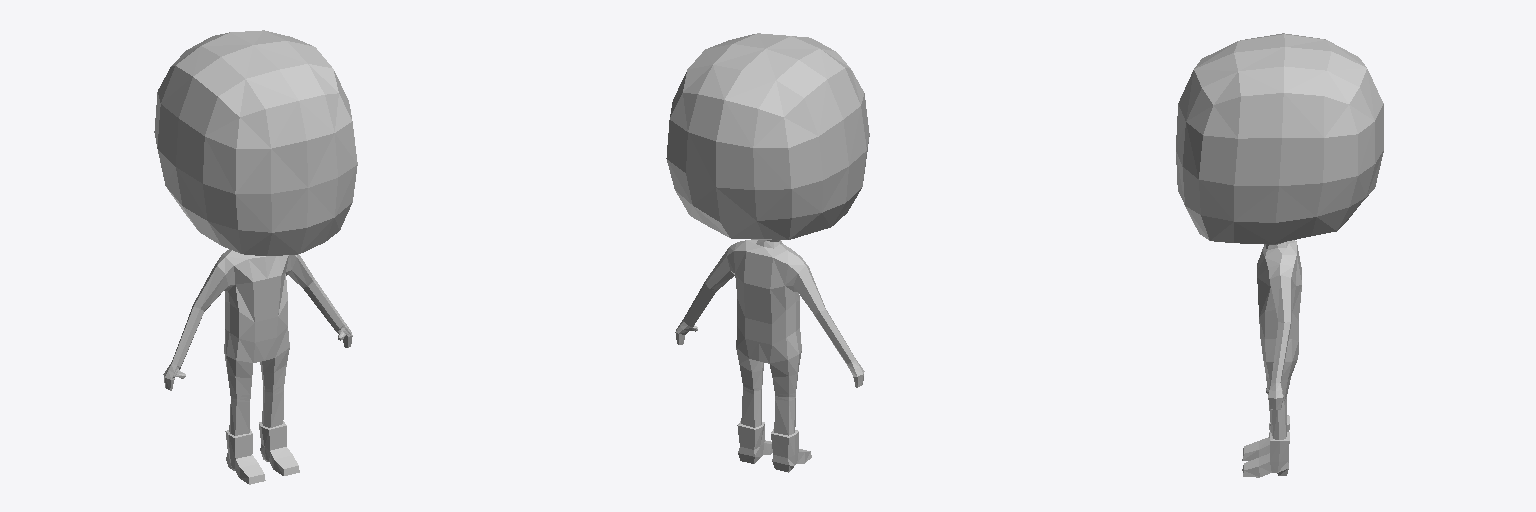
The model's file is Chibi model.obj.
3 views of the same model, side by side, from view 1: azimuth 30°, elevation 25°; view 2: azimuth 150°, elevation 25°; view 3: azimuth 270°, elevation 25° (orthographic).
Visible parts, largest first — view 1: Cube; view 2: Cube; view 3: Cube.
Boxes of the visible parts, box(x1,y1,x2,y2) form: Cube: box(154, 30, 357, 484); Cube: box(666, 33, 869, 472); Cube: box(1176, 33, 1383, 477).
Size of the model in its own units: 2.91 by 6.22 by 2.81.